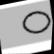no answer: (16, 8, 54, 40)
